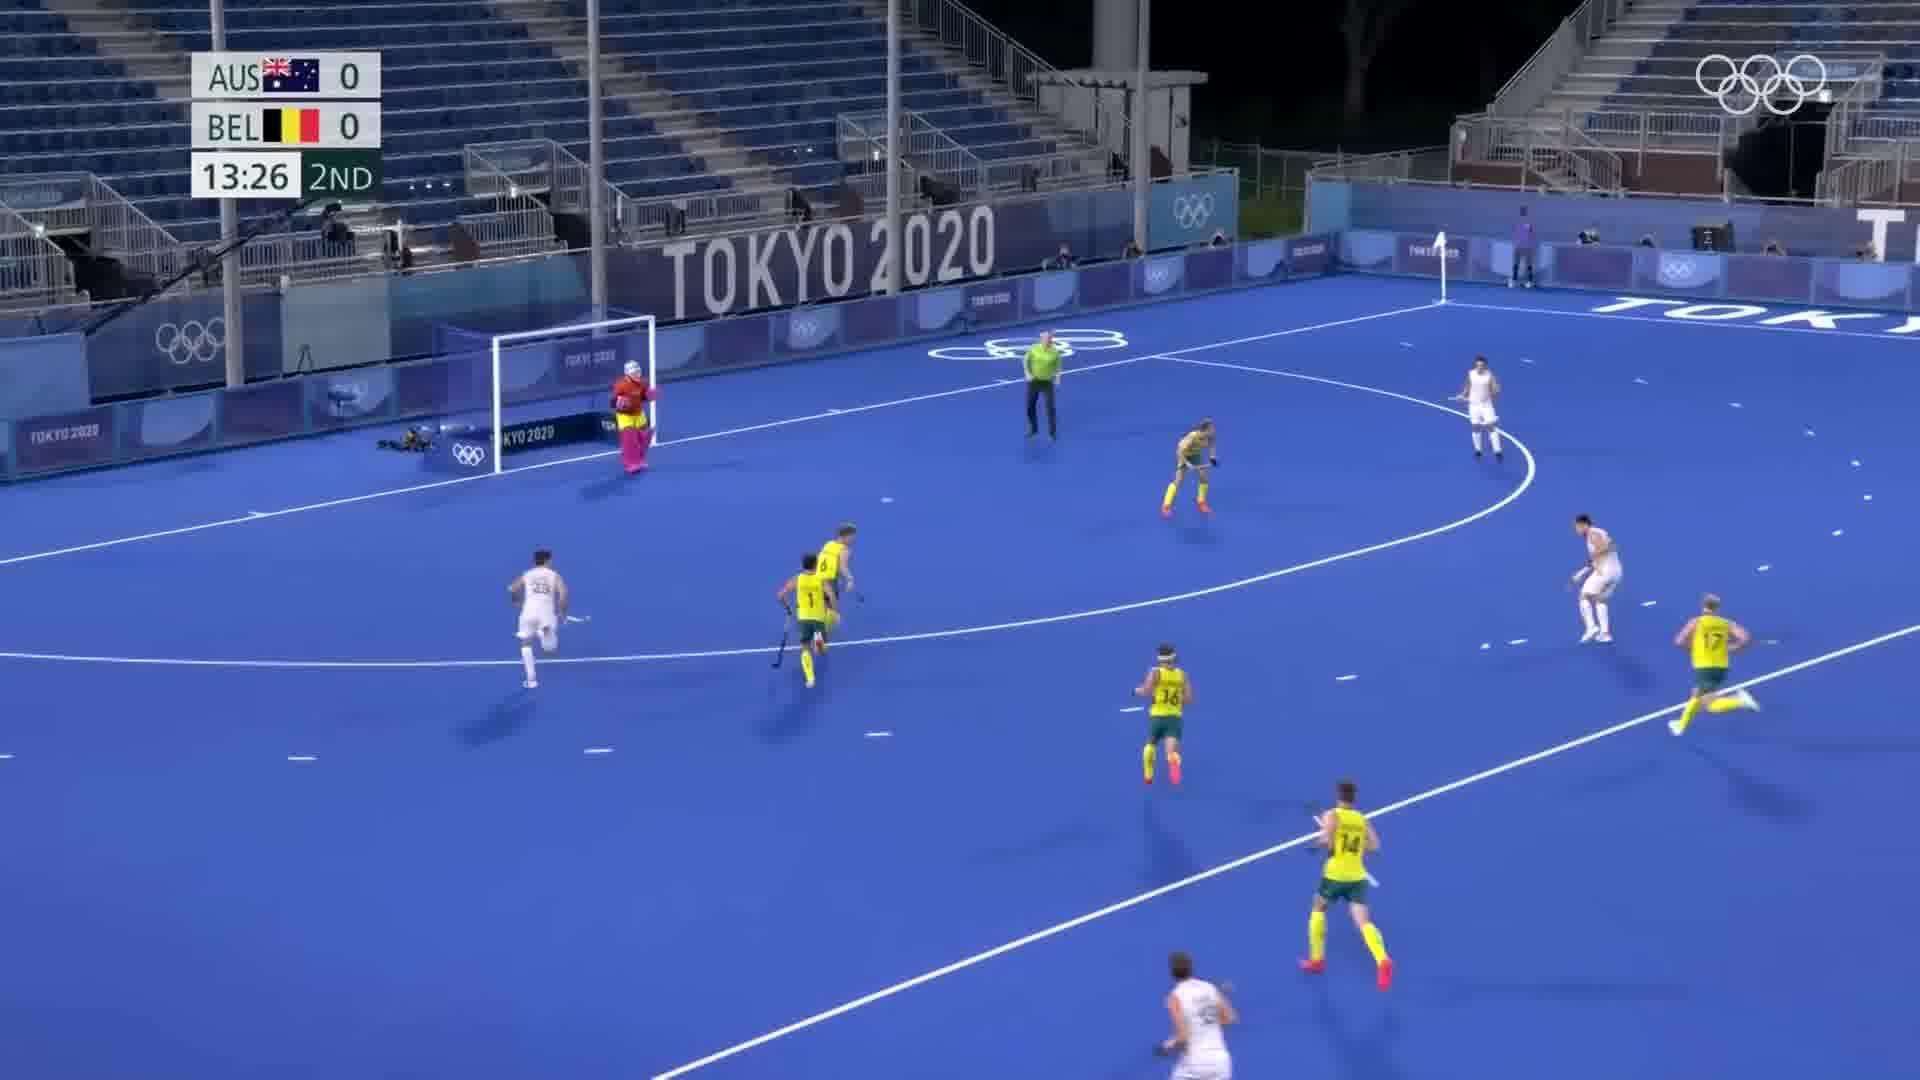ball: (1468, 640, 1498, 659)
